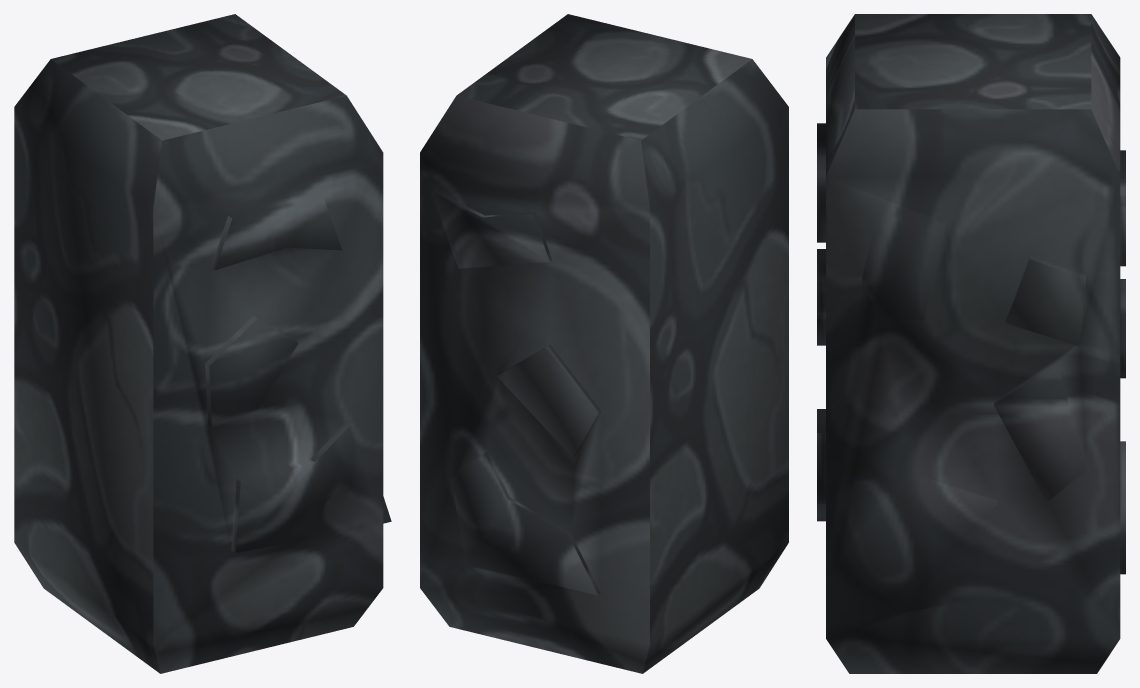
The model's file is prop_town_rock_wall_small.glb.
3 views of the same model, side by side, from view 1: azimuth 30°, elevation 25°; view 2: azimuth 150°, elevation 25°; view 3: azimuth 270°, elevation 25° (orthographic). The views are drawn at different scales.
Visible parts, largest first — view 1: obj_rock_wall_small; view 2: obj_rock_wall_small; view 3: obj_rock_wall_small.
Boxes of the visible parts, bbox=[...] form: obj_rock_wall_small: bbox=[14, 14, 391, 673]; obj_rock_wall_small: bbox=[420, 14, 788, 673]; obj_rock_wall_small: bbox=[817, 14, 1125, 673].
Bounding box in the file's own units: 1.17 × 2.48 × 1.23.
1 material, 1 textured.
